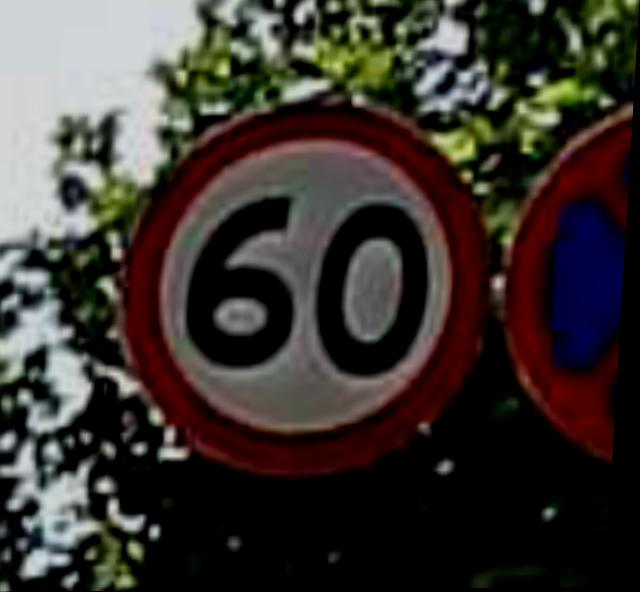limit60: (121, 104, 507, 485)
